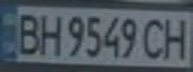4: (103, 12, 124, 59)
5: (81, 11, 106, 58)
9: (118, 13, 142, 60), (63, 11, 84, 57)
B: (9, 9, 45, 56)
C: (139, 15, 169, 61)
H: (160, 14, 193, 61), (36, 10, 63, 56)
